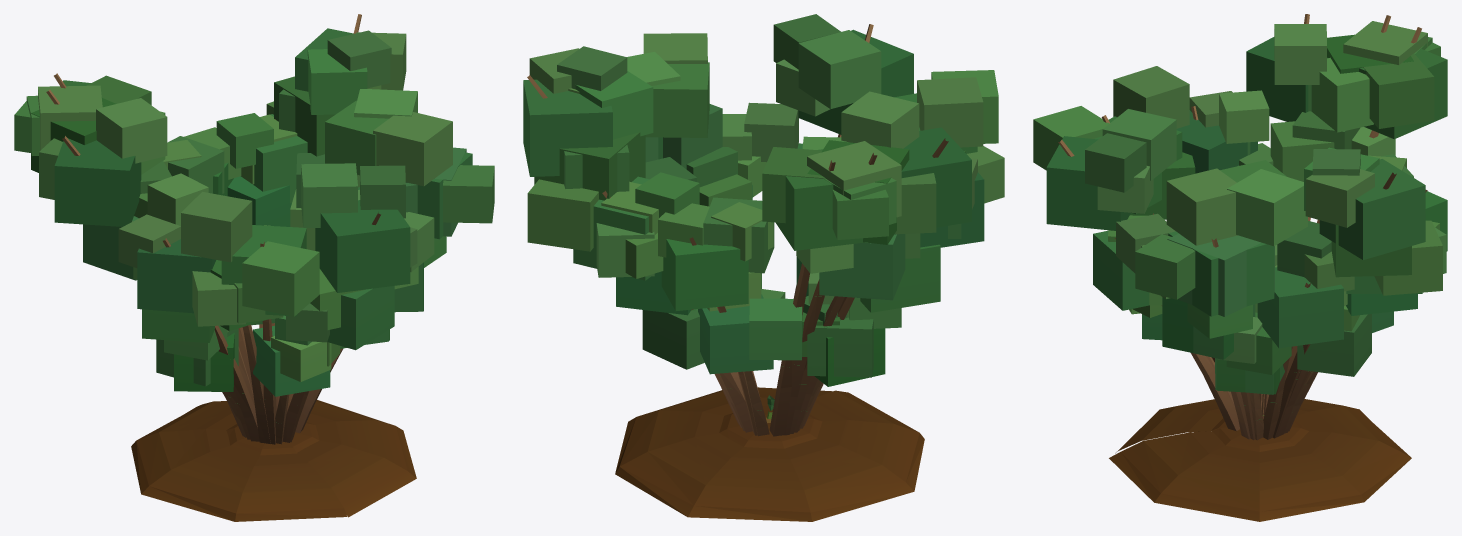
The model's file is blueberry.glb.
3 renders of one model, left to right at view 1: azimuth 30°, elevation 25°; view 2: azimuth 150°, elevation 25°; view 3: azimuth 270°, elevation 25°, orthographic. The views are drawn at different scales.
Parts seen in each view (by area): view 1: stage4_foliage, stage4_l1_foliage, stage2_soil, stage3_foliage, stage2_foliage, stage3_l1_foliage, stage4_bark, stage3_l1_bark, stage0_soil, stage2_l1_foliage, stage3_bark, stage4_l1_bark (+1 smaller); view 2: stage4_foliage, stage2_soil, stage4_l1_foliage, stage3_foliage, stage2_foliage, stage3_l1_foliage, stage2_l1_foliage, stage4_bark, stage4_l1_bark, stage0_soil, stage3_bark, stage2_bark (+1 smaller); view 3: stage4_foliage, stage4_l1_foliage, stage2_soil, stage3_foliage, stage2_foliage, stage3_l1_foliage, stage2_l1_foliage, stage3_bark, stage0_soil, stage4_l1_bark, stage4_bark, stage2_bark.
Part boxes in pixels (x1=…): stage4_foliage: x1=14, y1=49, x2=494, y2=313; stage4_l1_foliage: x1=63, y1=28, x2=466, y2=316; stage2_soil: x1=131, y1=400, x2=416, y2=521; stage3_foliage: x1=83, y1=127, x2=434, y2=350; stage2_foliage: x1=164, y1=225, x2=388, y2=396; stage3_l1_foliage: x1=192, y1=176, x2=446, y2=331; stage4_bark: x1=46, y1=89, x2=380, y2=442; stage3_l1_bark: x1=242, y1=324, x2=342, y2=443; stage0_soil: x1=226, y1=422, x2=319, y2=455; stage2_l1_foliage: x1=156, y1=328, x2=389, y2=386; stage3_bark: x1=226, y1=327, x2=341, y2=442; stage4_l1_bark: x1=54, y1=14, x2=361, y2=444; stage4_foliage: x1=527, y1=14, x2=984, y2=280; stage2_soil: x1=615, y1=387, x2=924, y2=521; stage4_l1_foliage: x1=523, y1=33, x2=998, y2=250; stage3_foliage: x1=645, y1=102, x2=940, y2=312; stage2_foliage: x1=642, y1=256, x2=901, y2=386; stage3_l1_foliage: x1=596, y1=146, x2=1004, y2=315; stage2_l1_foliage: x1=802, y1=272, x2=873, y2=377; stage4_bark: x1=602, y1=24, x2=948, y2=435; stage4_l1_bark: x1=527, y1=75, x2=835, y2=436; stage0_soil: x1=719, y1=406, x2=822, y2=448; stage3_bark: x1=689, y1=237, x2=844, y2=435; stage2_bark: x1=716, y1=371, x2=822, y2=436; stage4_foliage: x1=1046, y1=21, x2=1442, y2=316; stage4_l1_foliage: x1=1033, y1=49, x2=1447, y2=316; stage2_soil: x1=1109, y1=399, x2=1411, y2=521; stage3_foliage: x1=1093, y1=111, x2=1447, y2=359; stage2_foliage: x1=1129, y1=303, x2=1393, y2=394; stage3_l1_foliage: x1=1130, y1=152, x2=1446, y2=359; stage2_l1_foliage: x1=1215, y1=244, x2=1291, y2=394; stage3_bark: x1=1115, y1=190, x2=1427, y2=439; stage0_soil: x1=1198, y1=418, x2=1308, y2=451; stage4_l1_bark: x1=1101, y1=27, x2=1421, y2=440; stage4_bark: x1=1058, y1=14, x2=1390, y2=437; stage2_bark: x1=1210, y1=357, x2=1317, y2=433.
Bounding box in the file's own units: 0.868 × 0.8105 × 0.8152.
